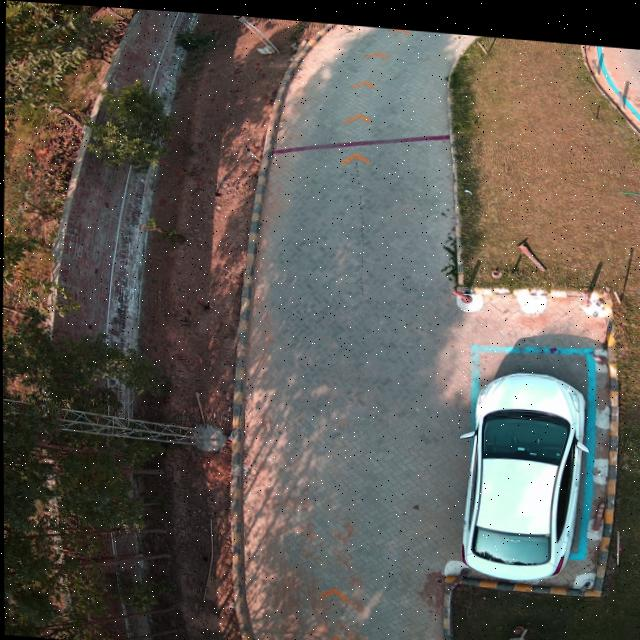car: (461, 363, 586, 572)
